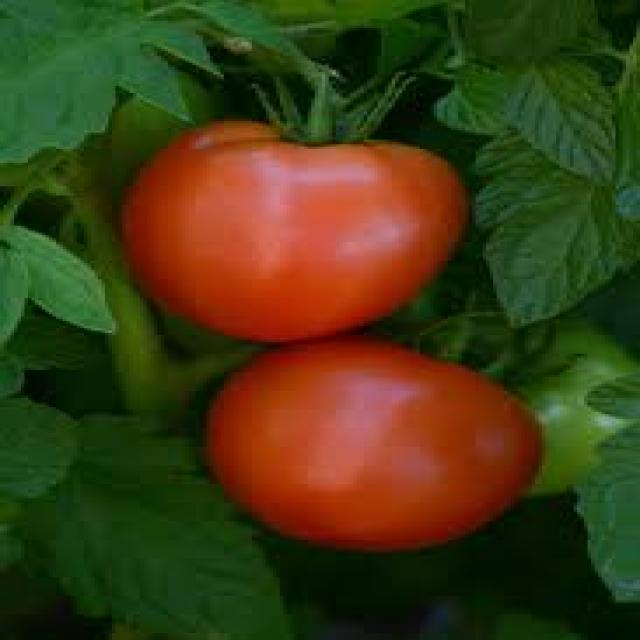Fresh_tomato: (193, 86, 447, 336), (260, 351, 554, 534)
